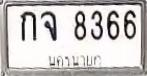3: (89, 10, 102, 40)
6: (106, 9, 119, 39), (123, 9, 135, 39)
8: (73, 10, 86, 40)
A01: (19, 10, 36, 40)
A08: (40, 10, 56, 40)
NYK: (48, 53, 102, 66)
